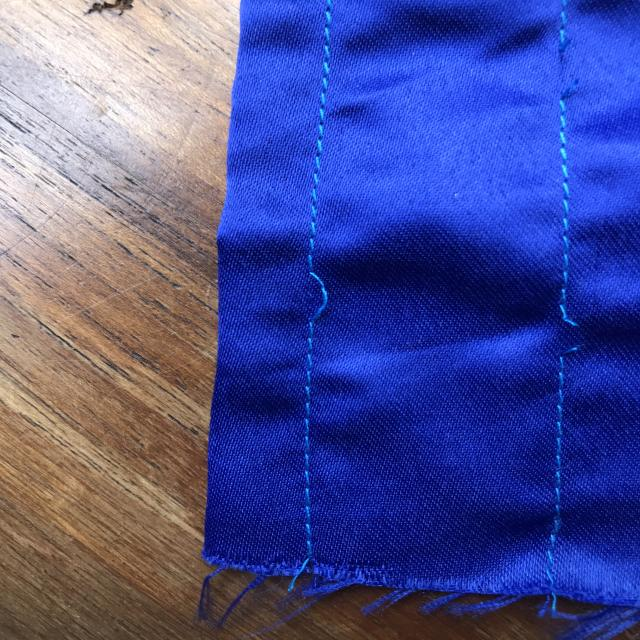broken: (523, 283, 603, 371)
good: (296, 79, 350, 198), (548, 126, 594, 239)
skip: (271, 250, 353, 330)
